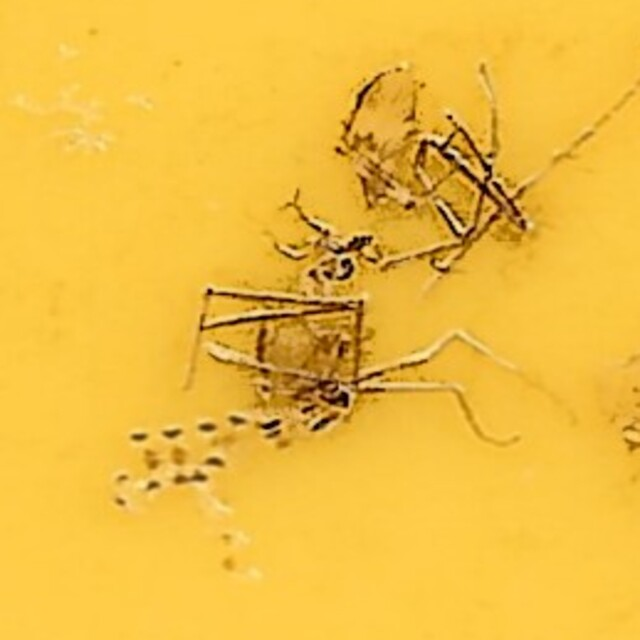Nematocera: (247, 206, 393, 434)
